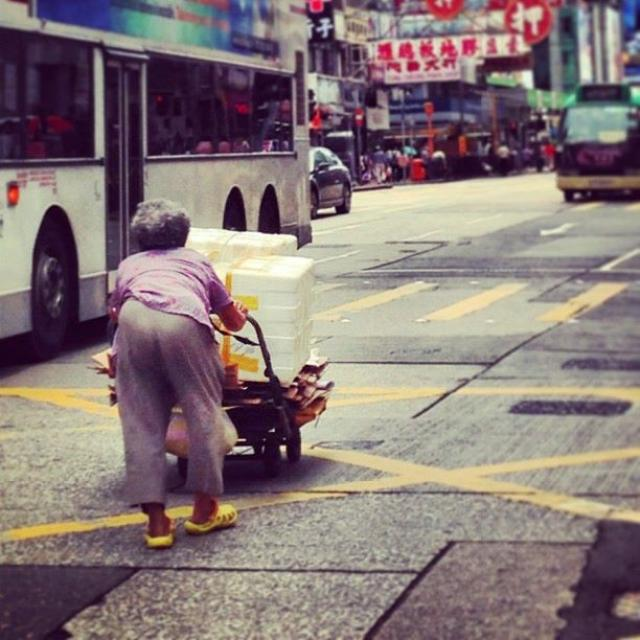idoso em pe: (80, 189, 258, 564)
